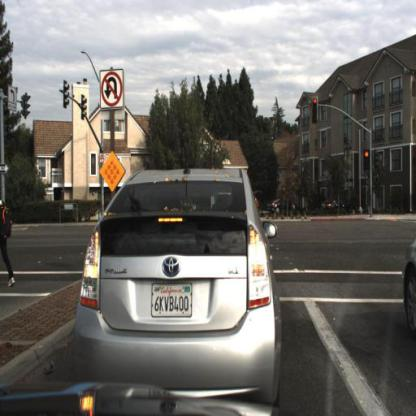car: (73, 159, 282, 403), (400, 229, 416, 338), (319, 194, 354, 219), (268, 192, 295, 219)
pedestrian: (1, 189, 19, 292), (287, 188, 302, 223), (290, 190, 299, 216)
trafficLight-Red: (362, 146, 373, 174), (312, 93, 321, 125)
